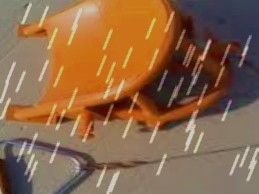chock: (0, 0, 247, 162)
